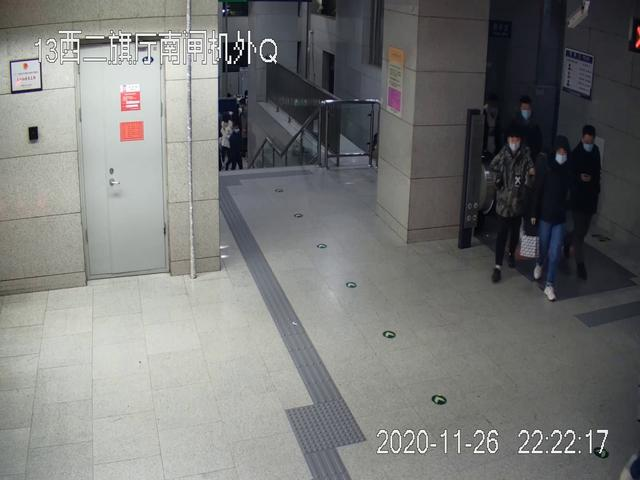person: (487, 125, 537, 284), (533, 134, 570, 300), (569, 126, 601, 276)
